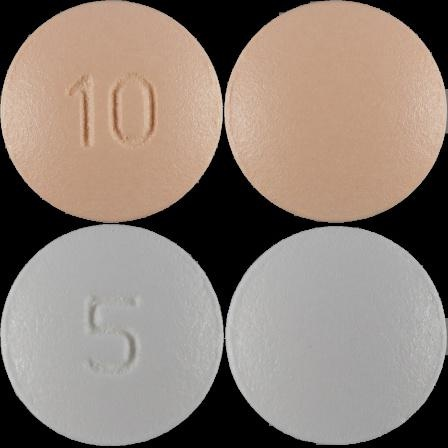0615-7842: (0, 0, 224, 224)
